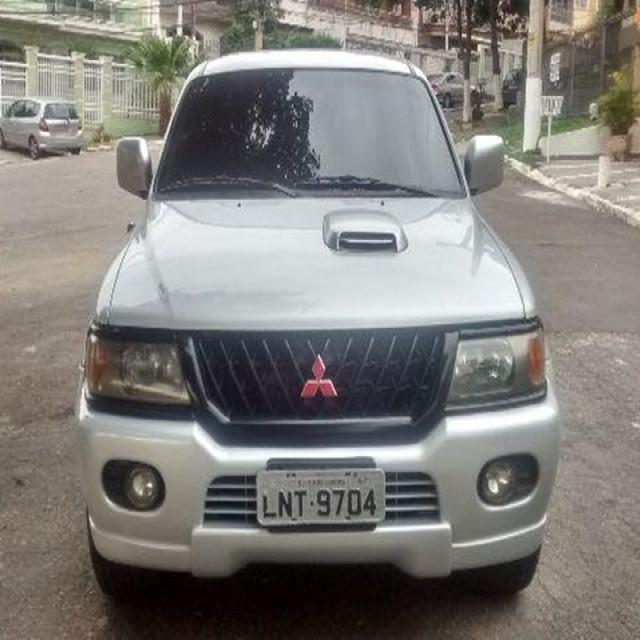Placa: (254, 464, 388, 531)
